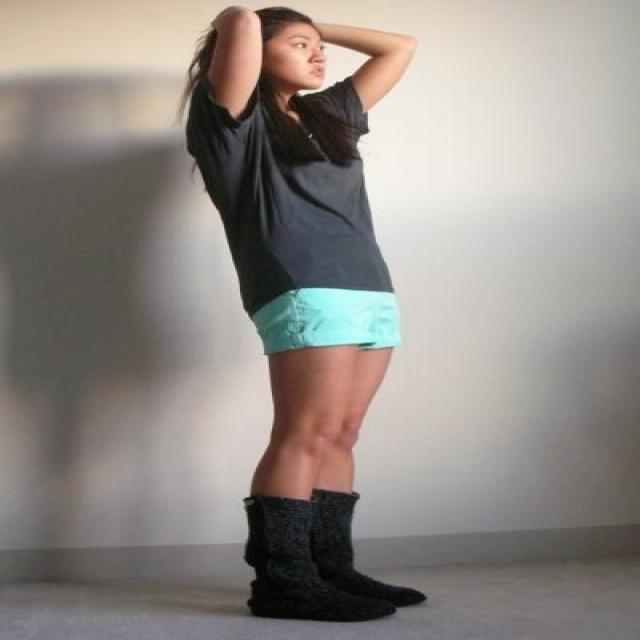shirt: (186, 76, 392, 314)
shoe: (244, 488, 426, 622)
shorts: (249, 288, 396, 354)
